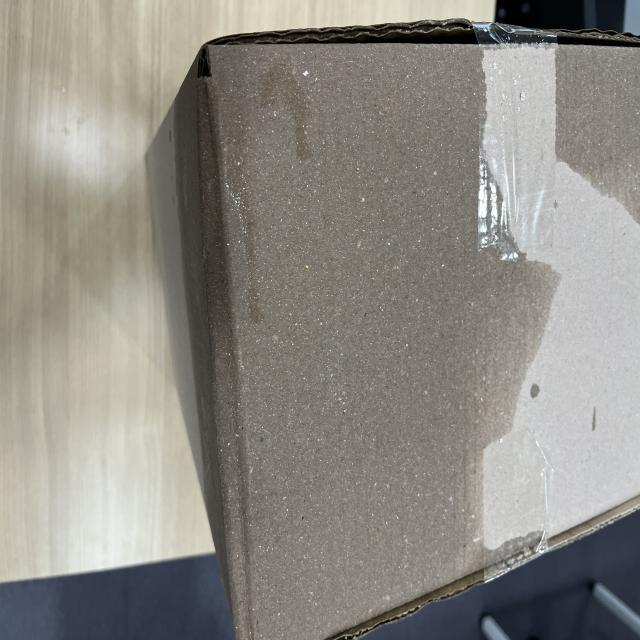wet: (179, 24, 534, 639), (554, 26, 640, 226)
